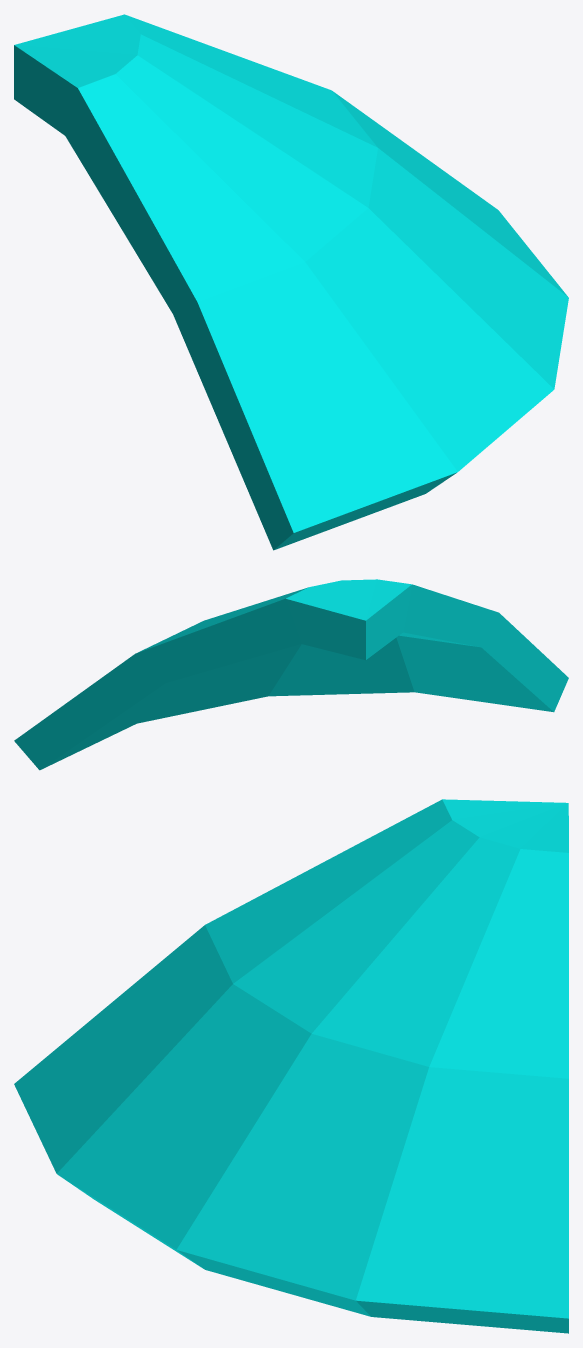
File: SM_Bld_Roof_Thatch_Convex_Corner_01_Collision.fbx
3 views of the same model, one above another, from view 1: azimuth 30°, elevation 25°; view 2: azimuth 150°, elevation 25°; view 3: azimuth 270°, elevation 25° (orthographic). The views are drawn at different scales.
Visible parts, largest first — view 1: SM_Bld_Roof_Thatch_Convex_Corner_01_Collision; view 2: SM_Bld_Roof_Thatch_Convex_Corner_01_Collision; view 3: SM_Bld_Roof_Thatch_Convex_Corner_01_Collision.
Part boxes in pixels (x1,y1,x2,y2): SM_Bld_Roof_Thatch_Convex_Corner_01_Collision: (14,14,568,550); SM_Bld_Roof_Thatch_Convex_Corner_01_Collision: (14,579,568,770); SM_Bld_Roof_Thatch_Convex_Corner_01_Collision: (14,799,568,1333).
Bounding box in the file's own units: 343 × 216 × 343.
